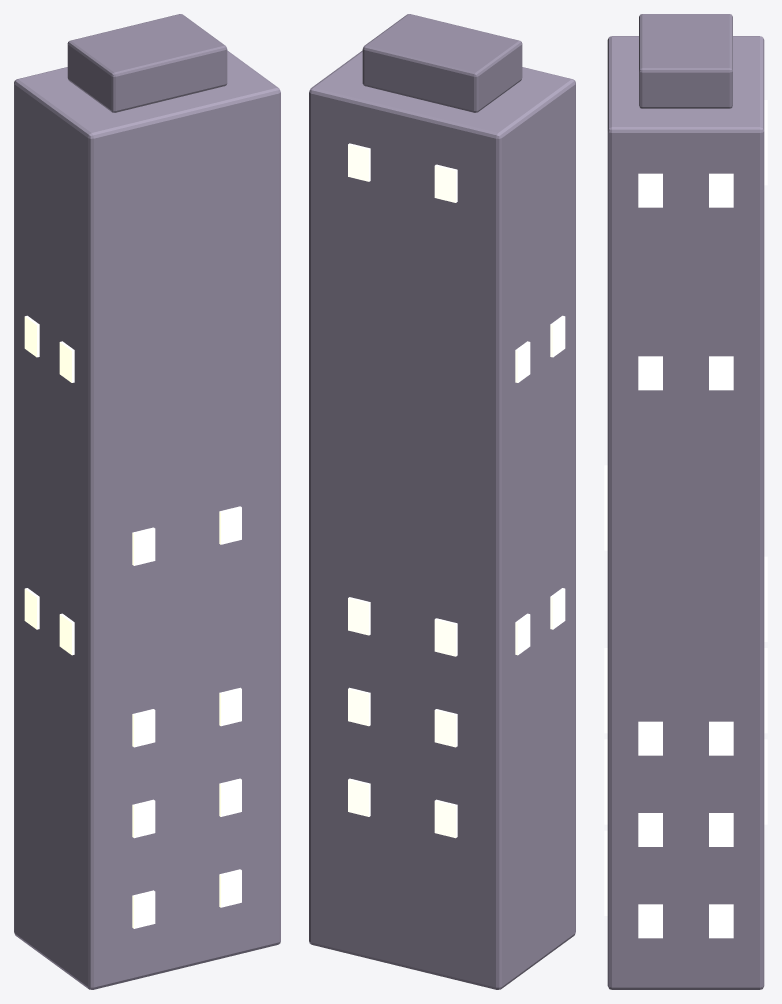
Rendered from tower_b.glb.
3 views of the same model, side by side, from view 1: azimuth 30°, elevation 25°; view 2: azimuth 150°, elevation 25°; view 3: azimuth 270°, elevation 25° (orthographic).
Parts seen in each view (by area): view 1: Tower, Roof, Windows; view 2: Tower, Roof, Windows; view 3: Tower, Windows, Roof.
Part boxes in pixels (x1,y1,x2,y2): Tower: [14, 50, 280, 989]; Roof: [67, 14, 227, 112]; Windows: [24, 315, 241, 928]; Tower: [309, 50, 575, 989]; Roof: [362, 14, 522, 112]; Windows: [348, 143, 565, 838]; Tower: [607, 36, 764, 989]; Windows: [604, 100, 767, 938]; Roof: [639, 14, 732, 108].
Size of the model in its own units: 2.06 by 8.9 by 1.46.
